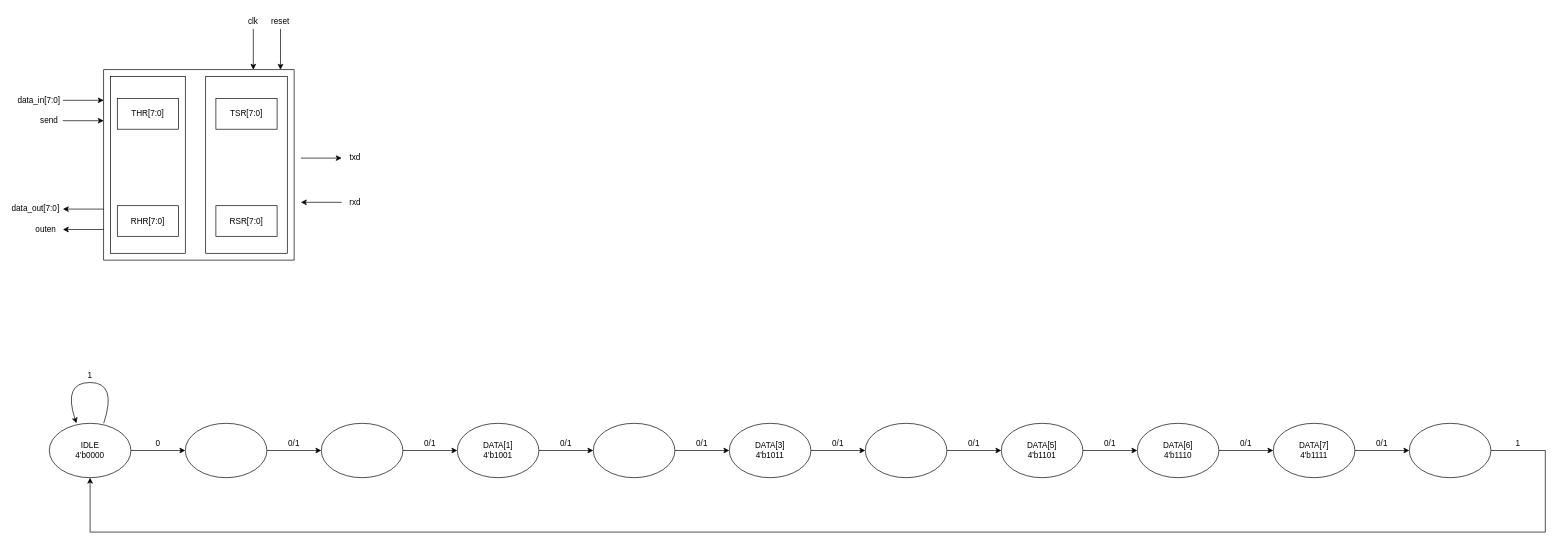
Some shapes in this 1558 by 549 pixel diagram are drawn without their labels. The shapes that lost their labels are listed below. From the top down, each one's centre as x and y in pixels, then its label:
point (226, 450): START 4'b0001
point (362, 450): DATA[0] 4'b1000
point (634, 450): DATA[2] 4'b1010
point (906, 450): DATA[4] 4'b1100
point (1450, 450): STOP 4'b0010
